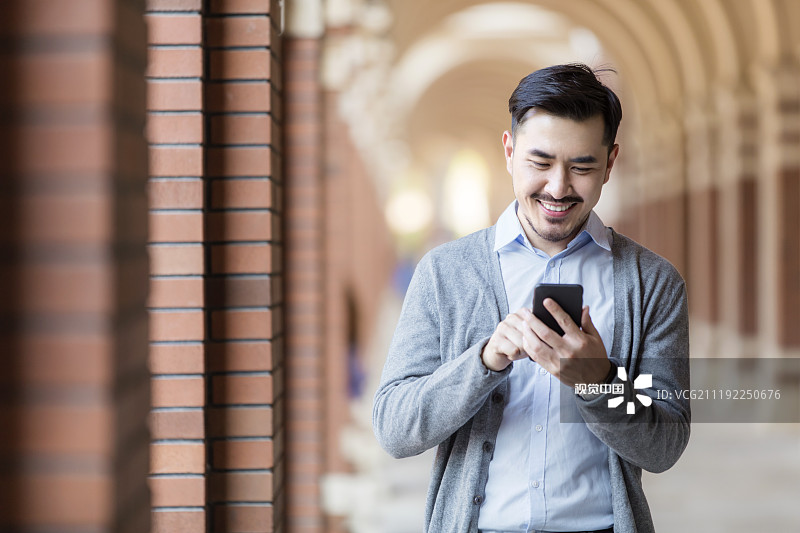reading: (475, 277, 636, 394)
